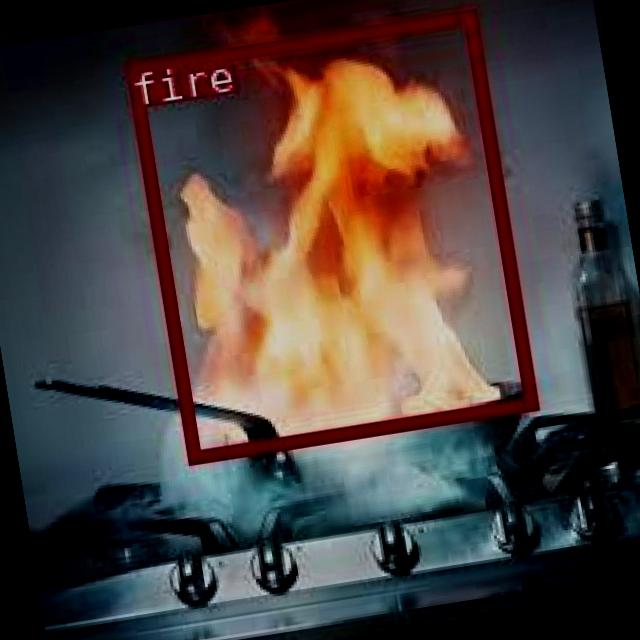fire: (124, 8, 536, 462)
